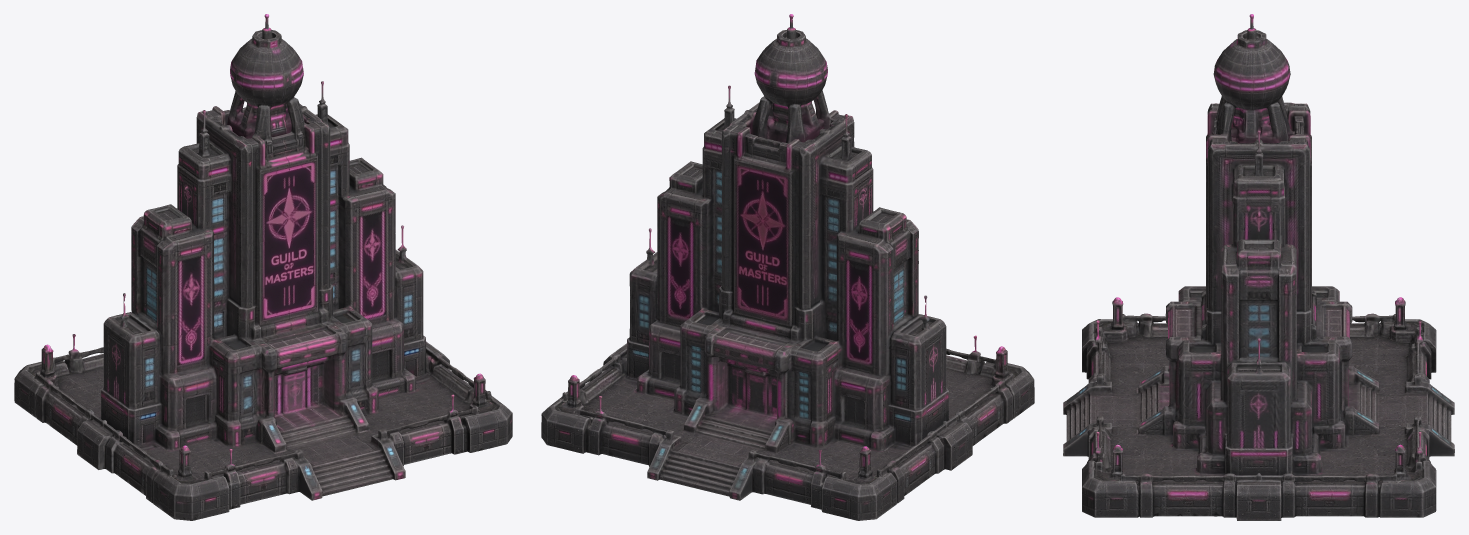
File: s12GuildOfMasters_LOD0.glb
3 renders of one model, left to right at view 1: azimuth 30°, elevation 25°; view 2: azimuth 150°, elevation 25°; view 3: azimuth 270°, elevation 25°, orthographic. The views are drawn at different scales.
Visible parts, largest first — view 1: Mesh_0.009; view 2: Mesh_0.009; view 3: Mesh_0.009.
Part boxes in pixels (x1=…): Mesh_0.009: x1=14, y1=14, x2=512, y2=520; Mesh_0.009: x1=541, y1=14, x2=1034, y2=520; Mesh_0.009: x1=1063, y1=14, x2=1454, y2=520.
Size of the model in its own units: 1.71 by 1.9 by 1.61.
1 material, 1 textured.
